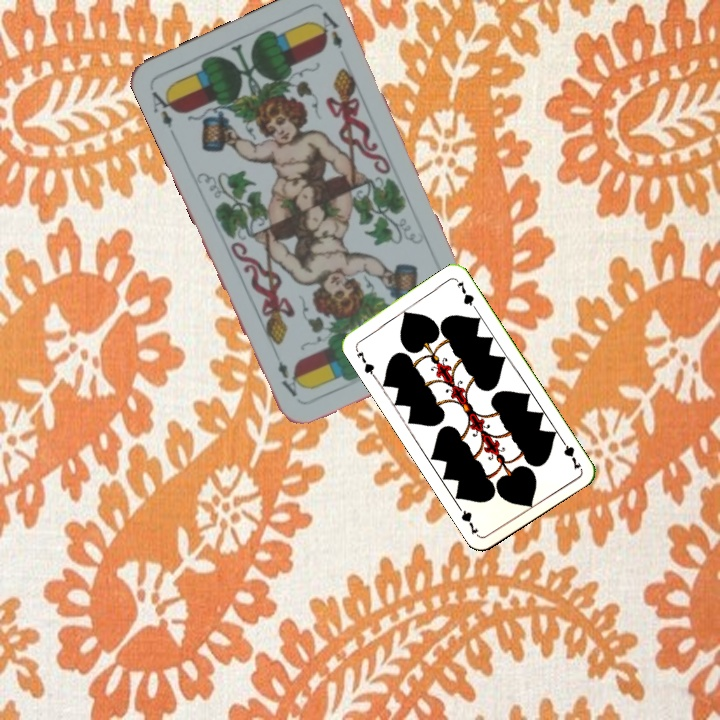EA: (147, 85, 180, 130)
G7: (556, 434, 584, 473), (351, 343, 378, 380)
